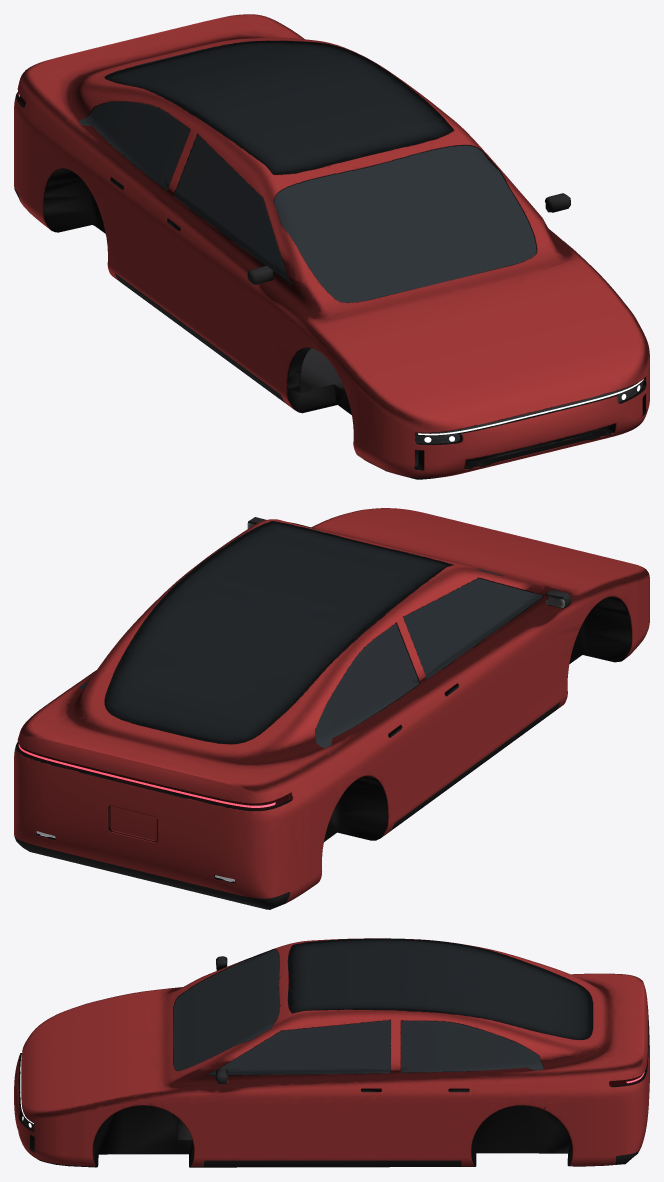
The model's file is surge.glb.
3 views of the same model, one above another, from view 1: azimuth 30°, elevation 25°; view 2: azimuth 150°, elevation 25°; view 3: azimuth 270°, elevation 25° (orthographic). The views are drawn at different scales.
Parts seen in each view (by area): view 1: paint, window, glass, trim, interior, head; view 2: paint, glass, window, trim, tail, tailglow; view 3: paint, window, glass, trim, interior.
Boxes of the visible parts, x1,y1,x2,y2 form: paint: (14, 14, 649, 478); window: (79, 102, 536, 302); glass: (104, 40, 453, 174); trim: (14, 92, 646, 479); interior: (100, 101, 536, 392); head: (415, 381, 643, 443); paint: (14, 508, 649, 903); glass: (104, 521, 453, 744); window: (79, 568, 542, 748); trim: (14, 517, 631, 909); tail: (19, 746, 289, 809); tailglow: (18, 744, 275, 807); paint: (14, 938, 649, 1166); window: (173, 949, 543, 1074); glass: (287, 938, 593, 1039); trim: (18, 949, 648, 1167); interior: (177, 1020, 542, 1140).
Size of what is drawn, in the model's own units: 2.22 by 1.25 by 4.94.
